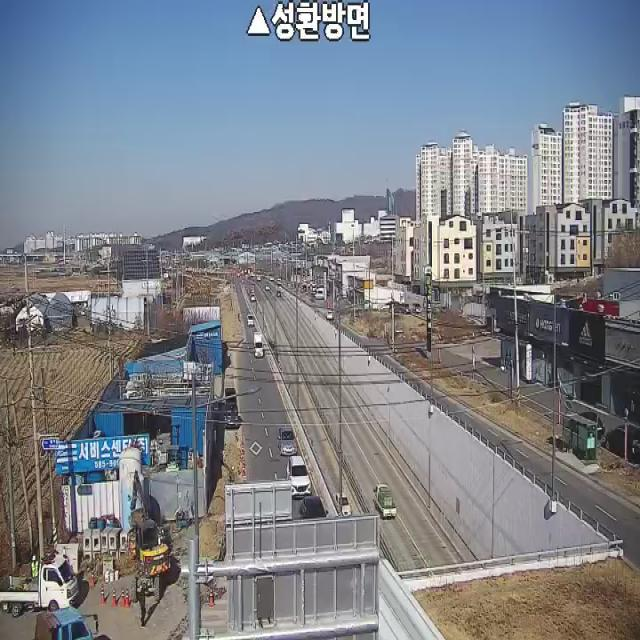Car: (284, 456, 310, 497), (299, 497, 328, 518), (277, 427, 297, 455), (248, 314, 254, 326), (326, 310, 333, 319)
Truck: (129, 462, 177, 596), (0, 560, 78, 617), (33, 606, 91, 640), (373, 483, 397, 519), (223, 386, 241, 430), (254, 331, 263, 357)
